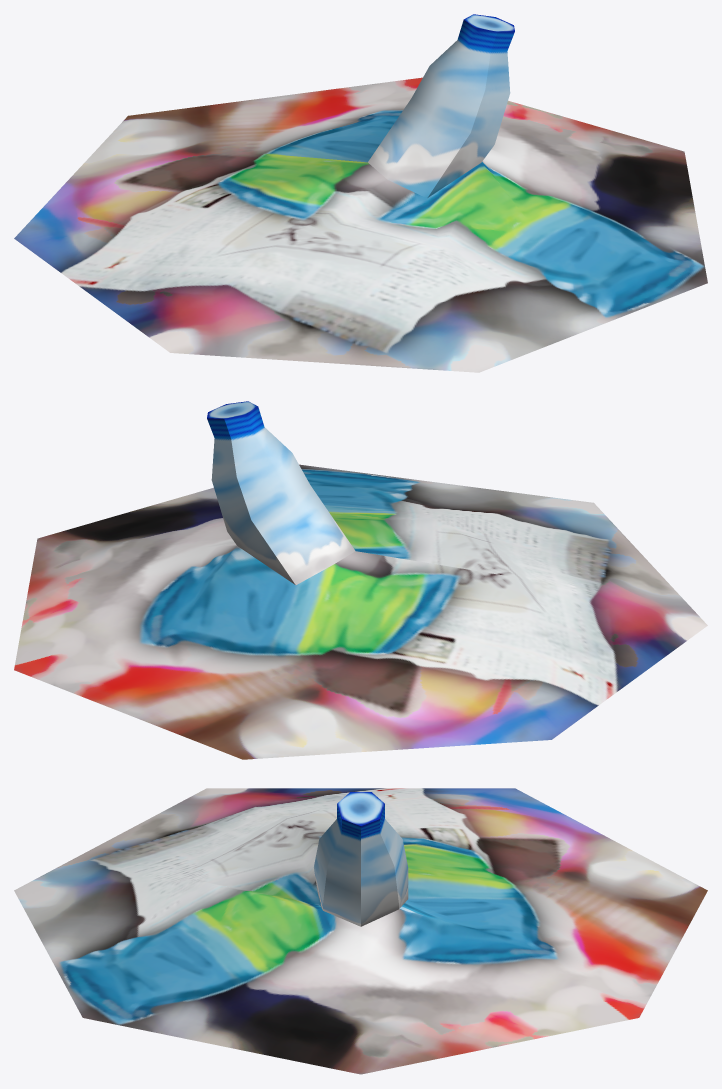
File: Decal_Trash.FBX
The picture shows the model from 3 angles, top to bottom: view 1: azimuth 30°, elevation 25°; view 2: azimuth 150°, elevation 25°; view 3: azimuth 270°, elevation 25°; orthographic projection.
Visible parts, largest first — view 1: Cylinder001; view 2: Cylinder001; view 3: Cylinder001.
Part boxes in pixels (<box>): Cylinder001: <box>14,14,707,372</box>; Cylinder001: <box>14,401,707,759</box>; Cylinder001: <box>14,788,707,1074</box>.
Bounding box in the file's own units: 147 × 43 × 151.
1 material, 1 textured.
